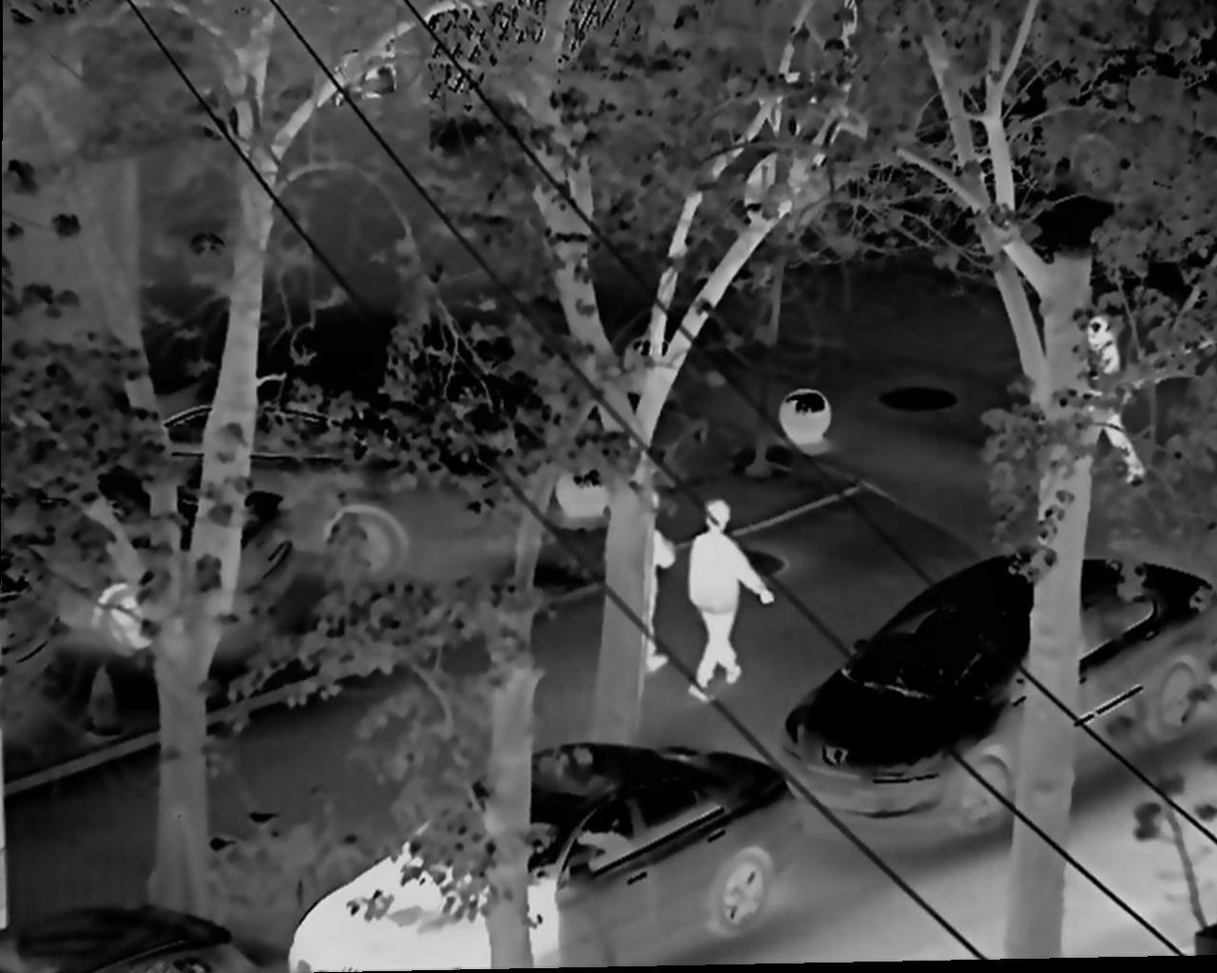person: (688, 504, 775, 706), (1076, 313, 1149, 482), (622, 509, 671, 676)
